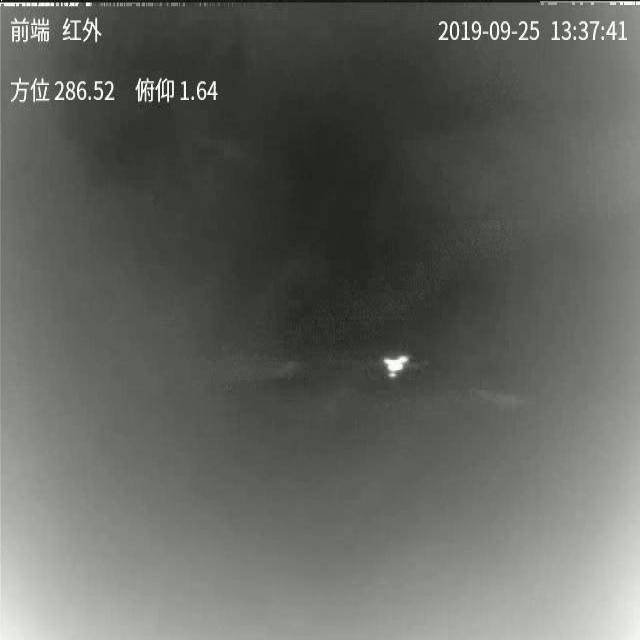drone: (384, 352, 411, 380)
